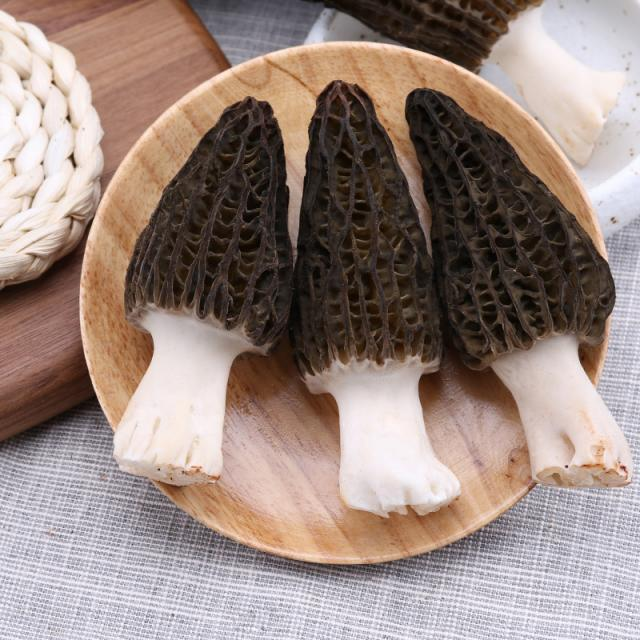Morchella esculenta: (407, 84, 634, 493), (298, 81, 464, 516), (110, 96, 295, 480)
